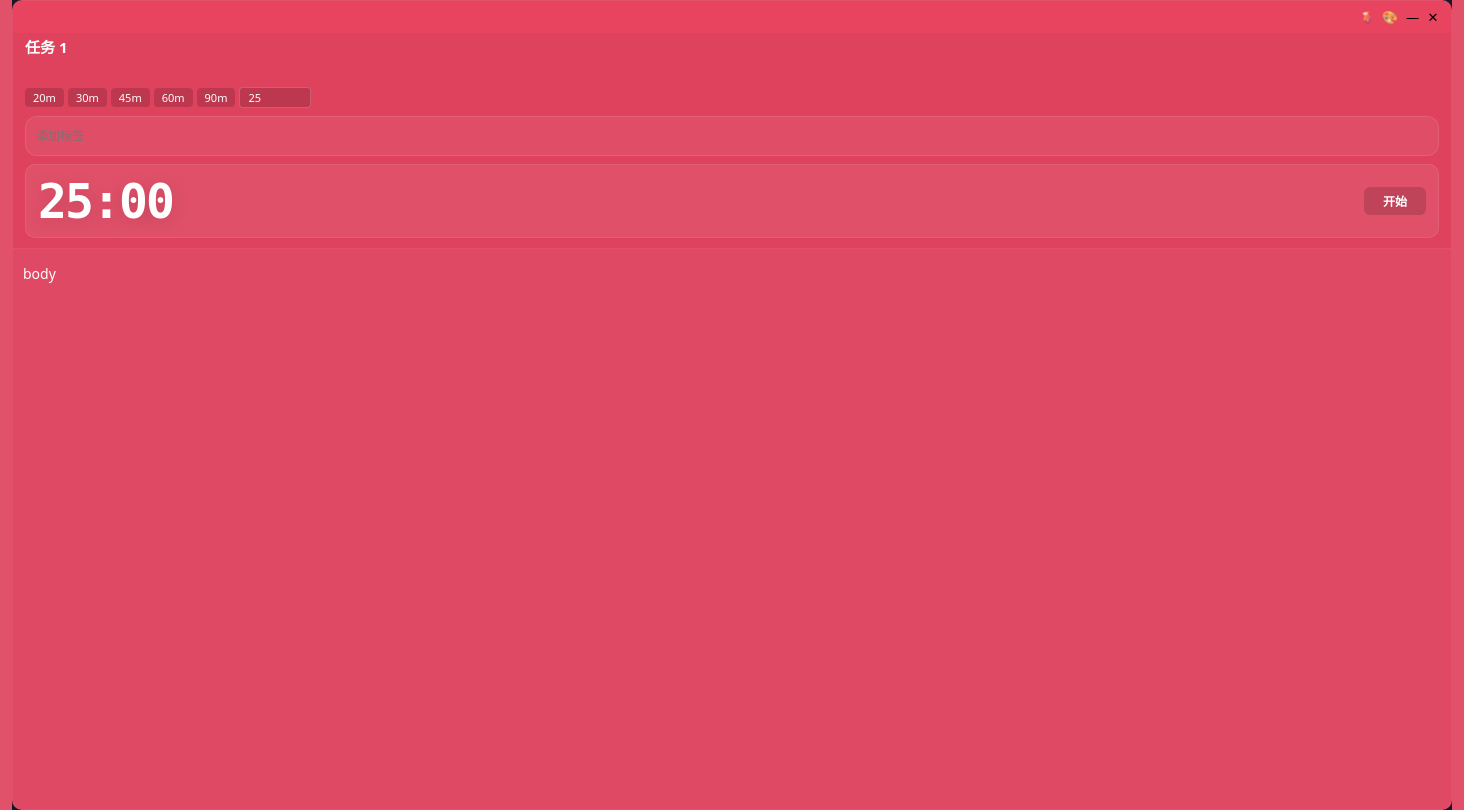
Test: TaskBox context menu coverage › opens the custom menu from the top toolbar instead of falling back to the browser menu
The width and height of the screenshot is (1464, 810).
Right-click the text box at {"x": 732, "y": 60}, box x1=13 y1=33 x2=1451 y2=87
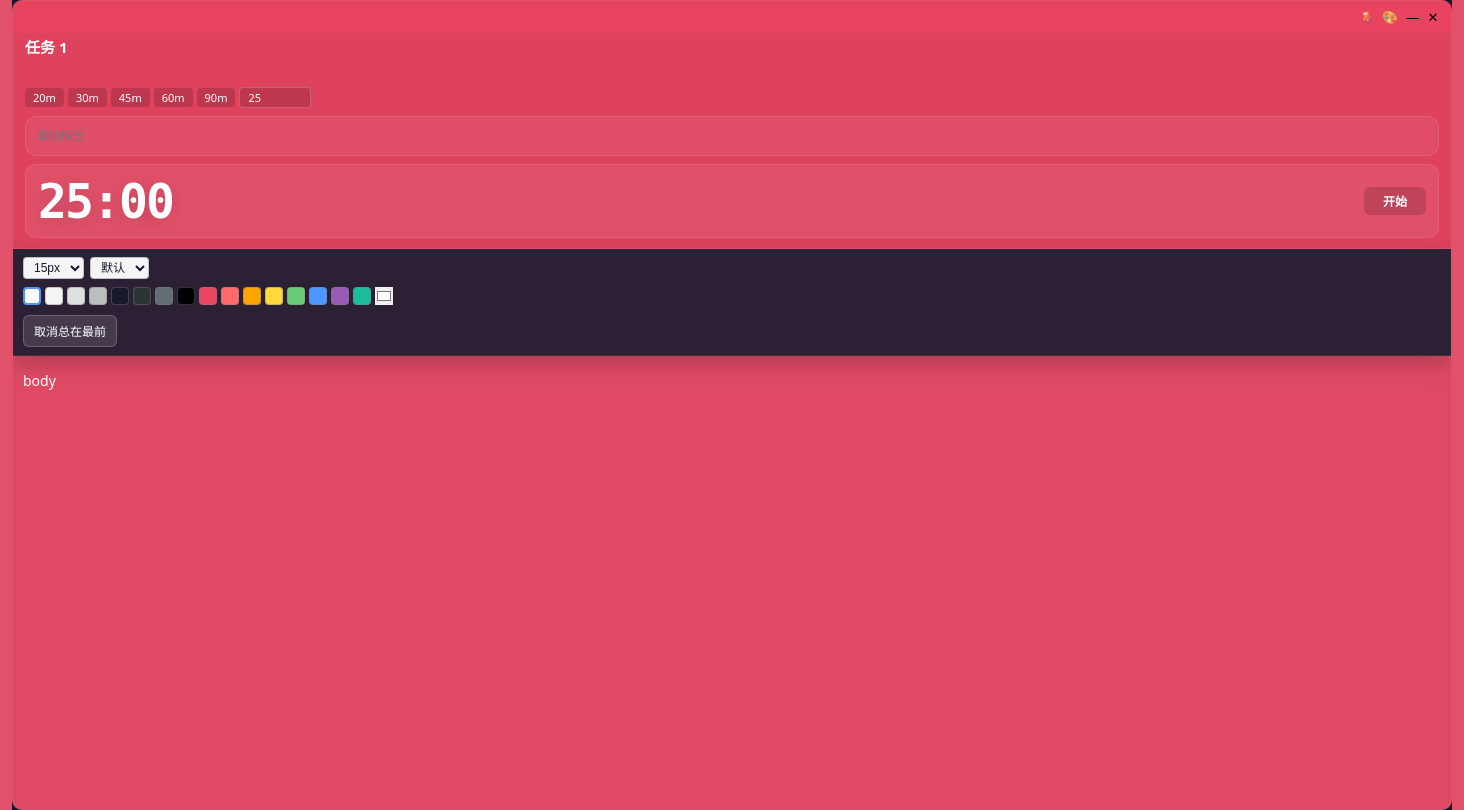
Now the text "取消总在最前" is shown, box x1=23 y1=315 x2=117 y2=347
